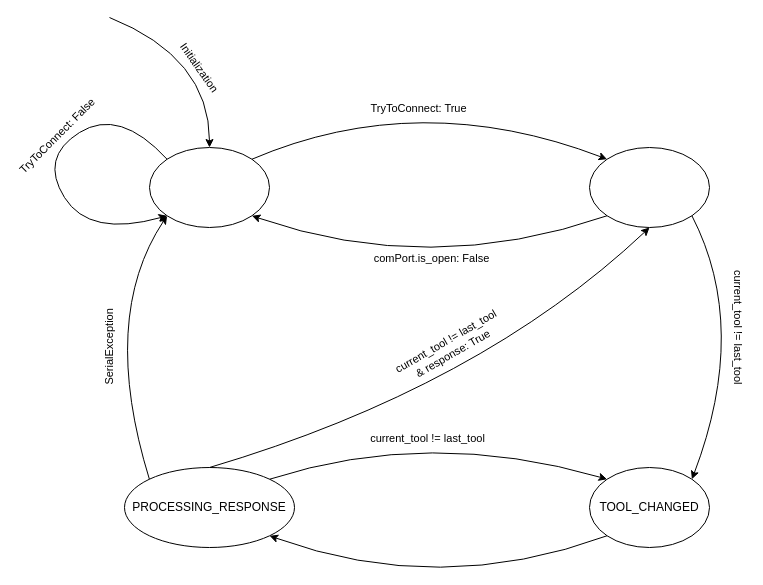
This 763x585 diagram has some shape labels left out. Each missing label, with the centre of its shape:
CONNECTED_IDLE: (x=649, y=187)
NOT_CONNECTED: (x=209, y=187)
